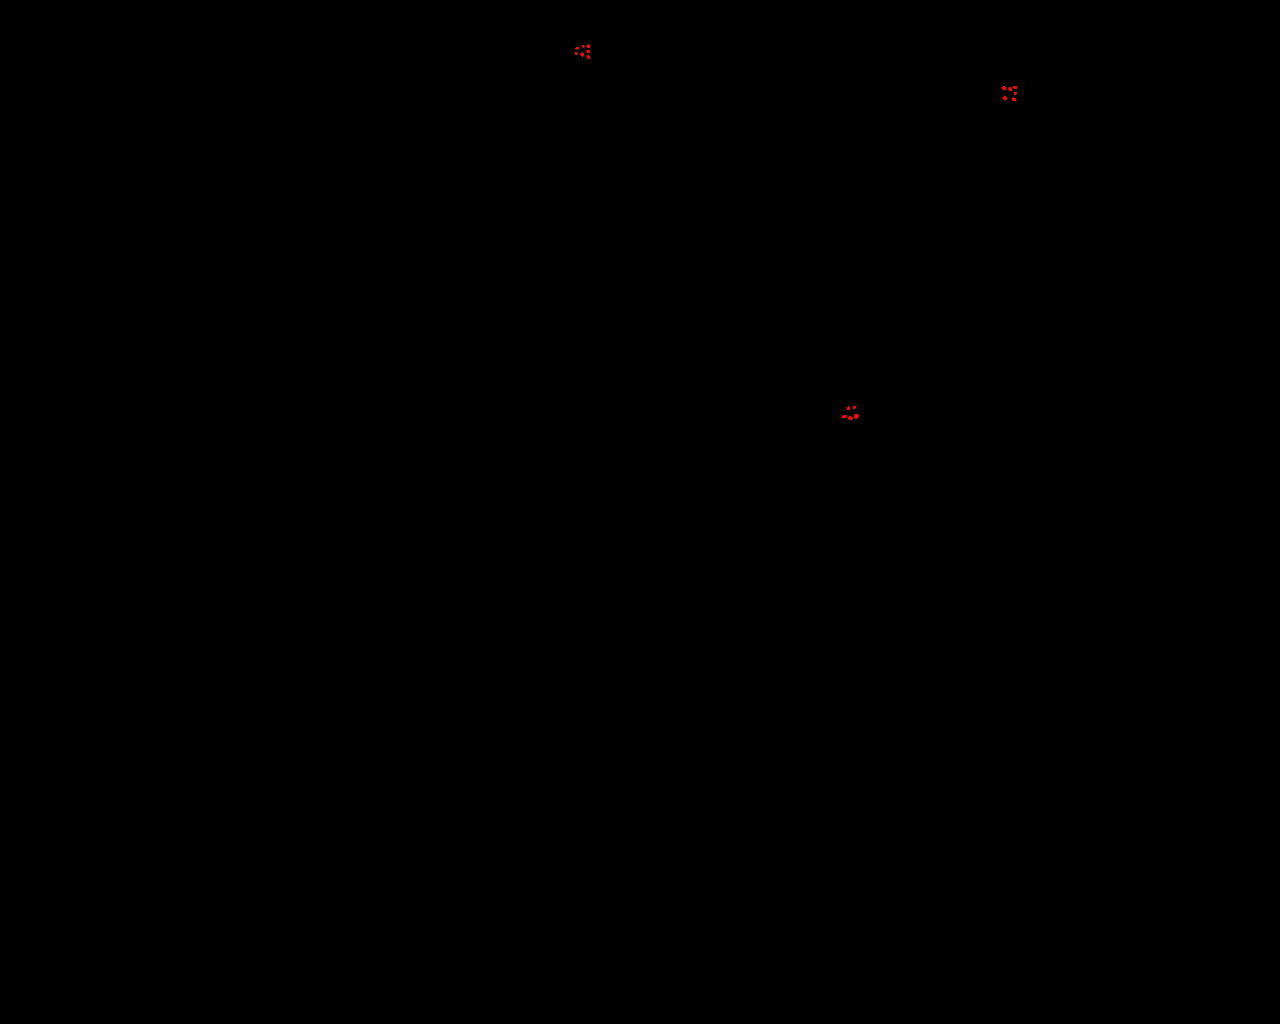Target: (854, 414, 859, 419), (580, 52, 584, 57), (1002, 86, 1006, 90), (1008, 87, 1013, 91), (1003, 96, 1007, 100), (848, 416, 853, 420), (842, 415, 847, 418), (587, 44, 590, 48), (575, 47, 579, 50), (586, 50, 590, 53), (1013, 86, 1017, 89), (1013, 97, 1016, 101), (582, 45, 585, 48), (575, 52, 578, 55), (587, 55, 590, 59), (1014, 92, 1017, 95), (847, 406, 850, 410), (853, 406, 856, 409)
